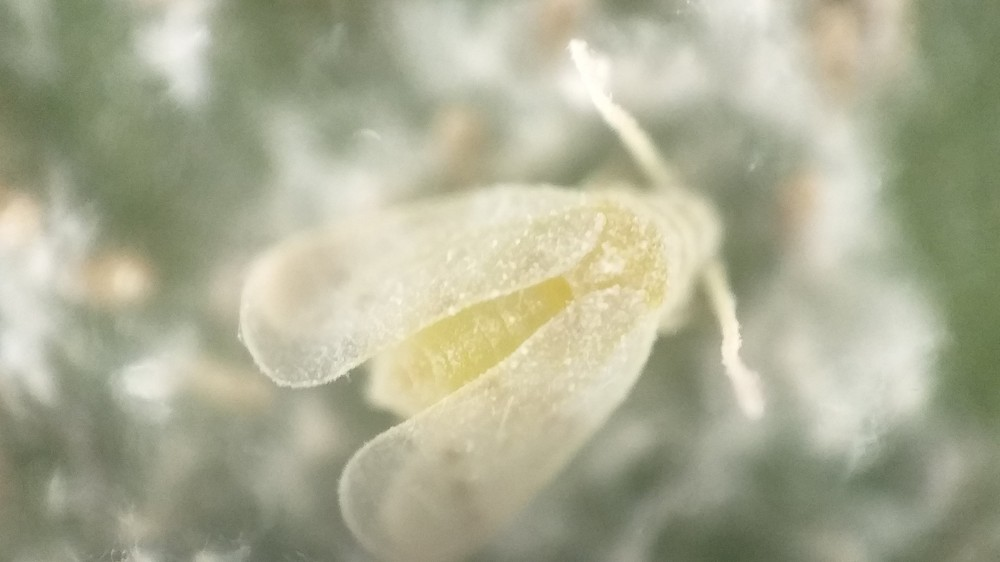Mosca Blanca: (226, 31, 781, 558)
